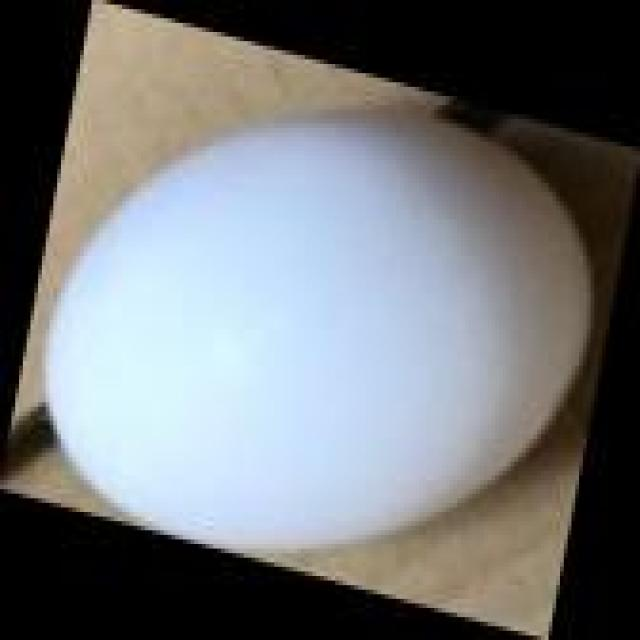Egg: (31, 93, 604, 564)
